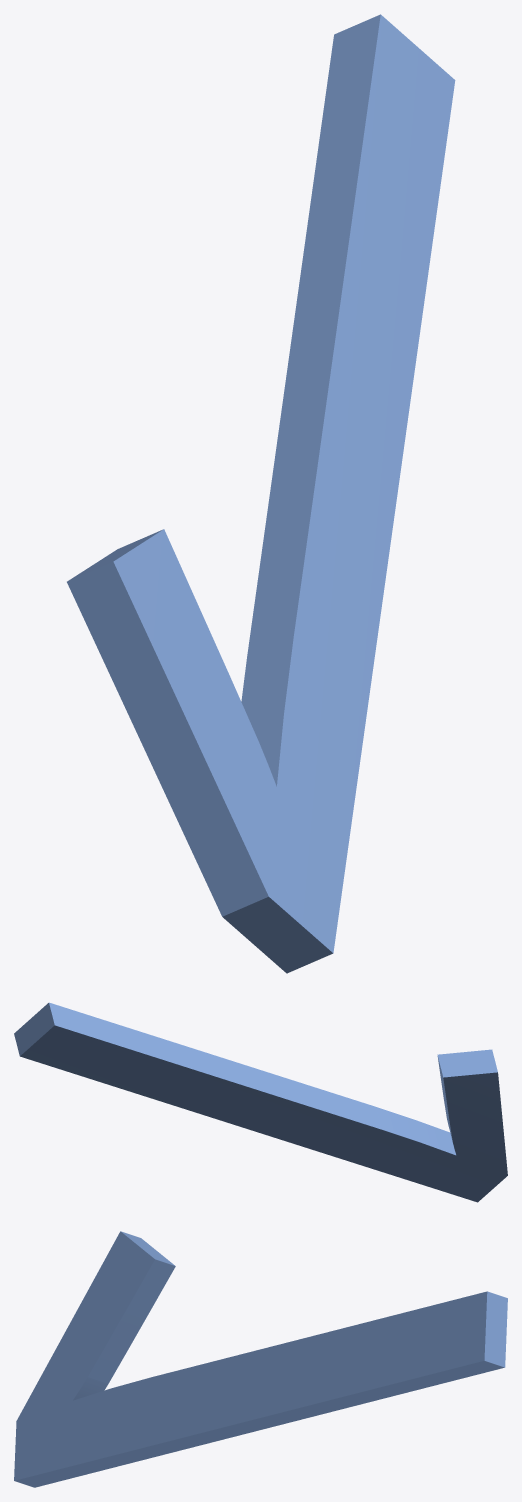
Rendered from New_Number_1.gltf.
The picture shows the model from 3 angles, top to bottom: view 1: azimuth 30°, elevation 25°; view 2: azimuth 150°, elevation 25°; view 3: azimuth 270°, elevation 25°; orthographic projection. The views are drawn at different scales.
Parts seen in each view (by area): view 1: Part 334; view 2: Part 334; view 3: Part 334.
Boxes of the visible parts, bbox=[...] form: Part 334: bbox=[67, 14, 455, 973]; Part 334: bbox=[14, 1002, 507, 1202]; Part 334: bbox=[14, 1231, 507, 1487].
Size of the model in its own units: 0.00356 by 0.00283 by 0.00379.
